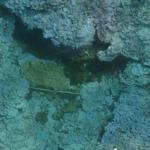dead: (3, 1, 148, 147)
